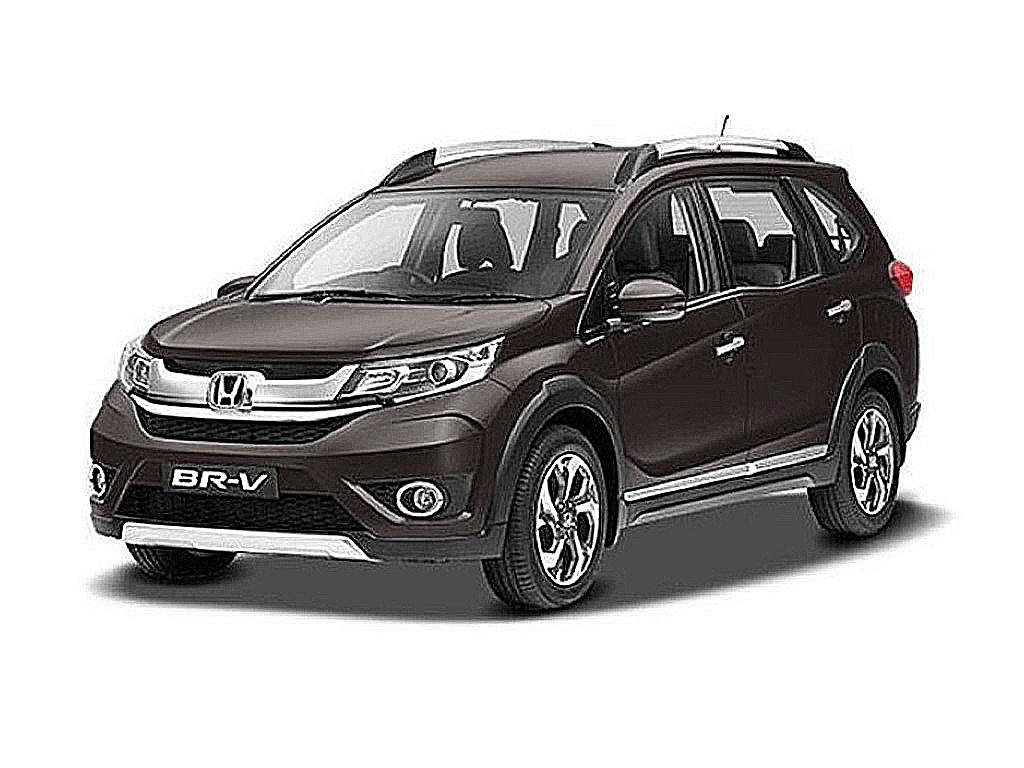Car hood: (134, 284, 554, 369)
Fender - -F-L-: (485, 286, 628, 553)
Fender - -R-L-: (849, 253, 919, 375)
Front bumper: (79, 382, 541, 574)
Passenger-s door - -F-L-: (613, 164, 749, 503)
Passenger-s door - -R-L-: (723, 161, 864, 482)
Rear bumper: (330, 329, 514, 417), (884, 362, 943, 464)
Rear light - -L-: (886, 240, 923, 303)
Rear light - -R-: (110, 330, 159, 416)
Side bumper - -L-: (601, 436, 844, 552)
Side mirror - -L-: (604, 272, 697, 339)
Side mirror - -R-: (209, 270, 266, 309)
